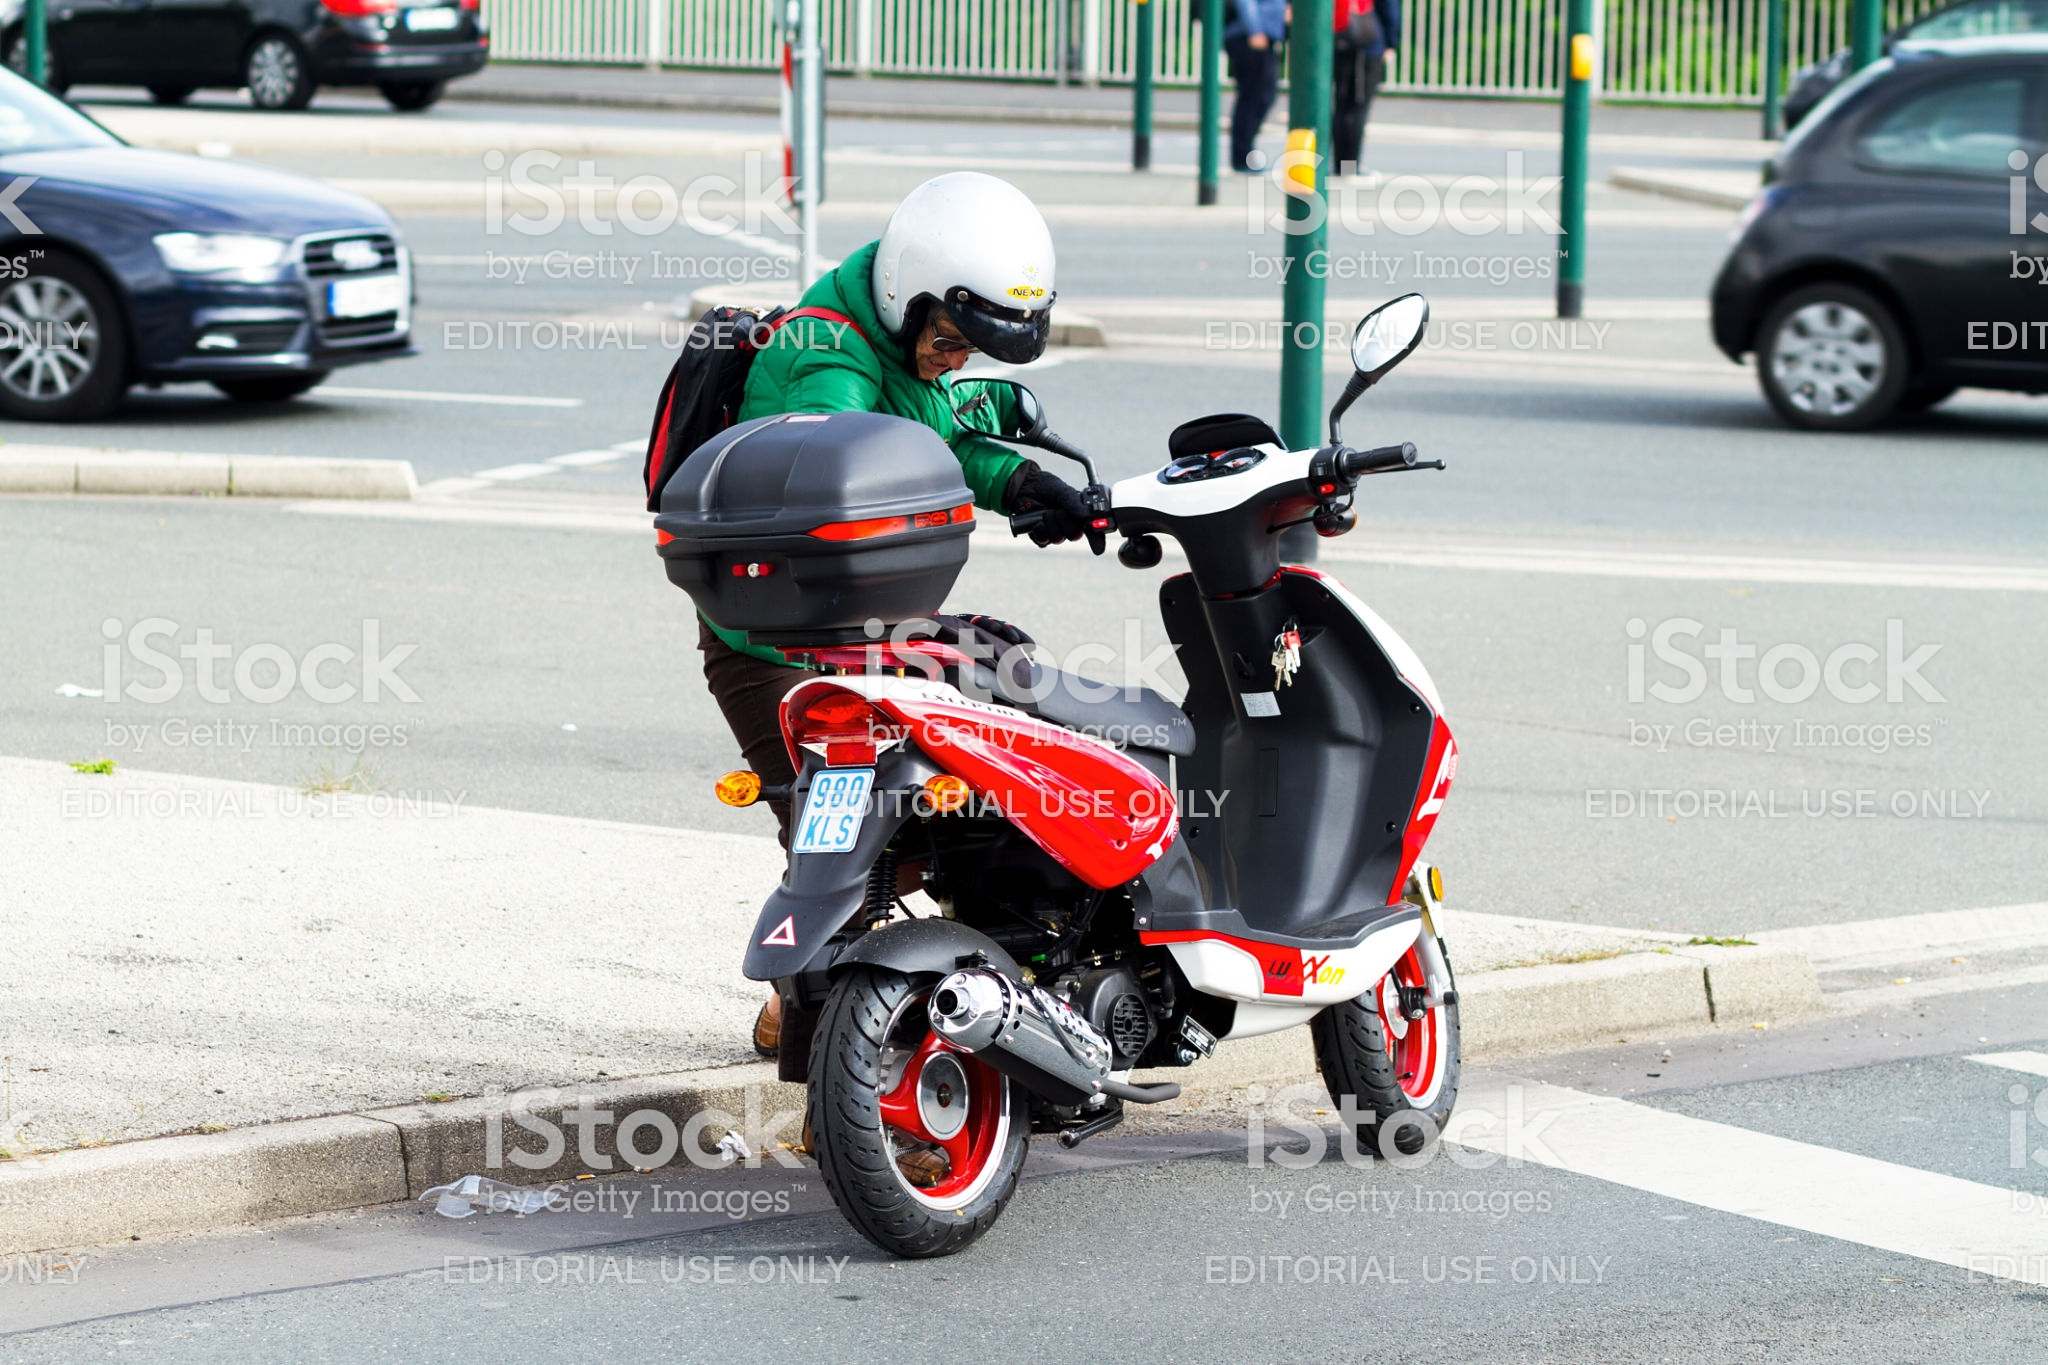helmet: (850, 171, 1061, 341)
